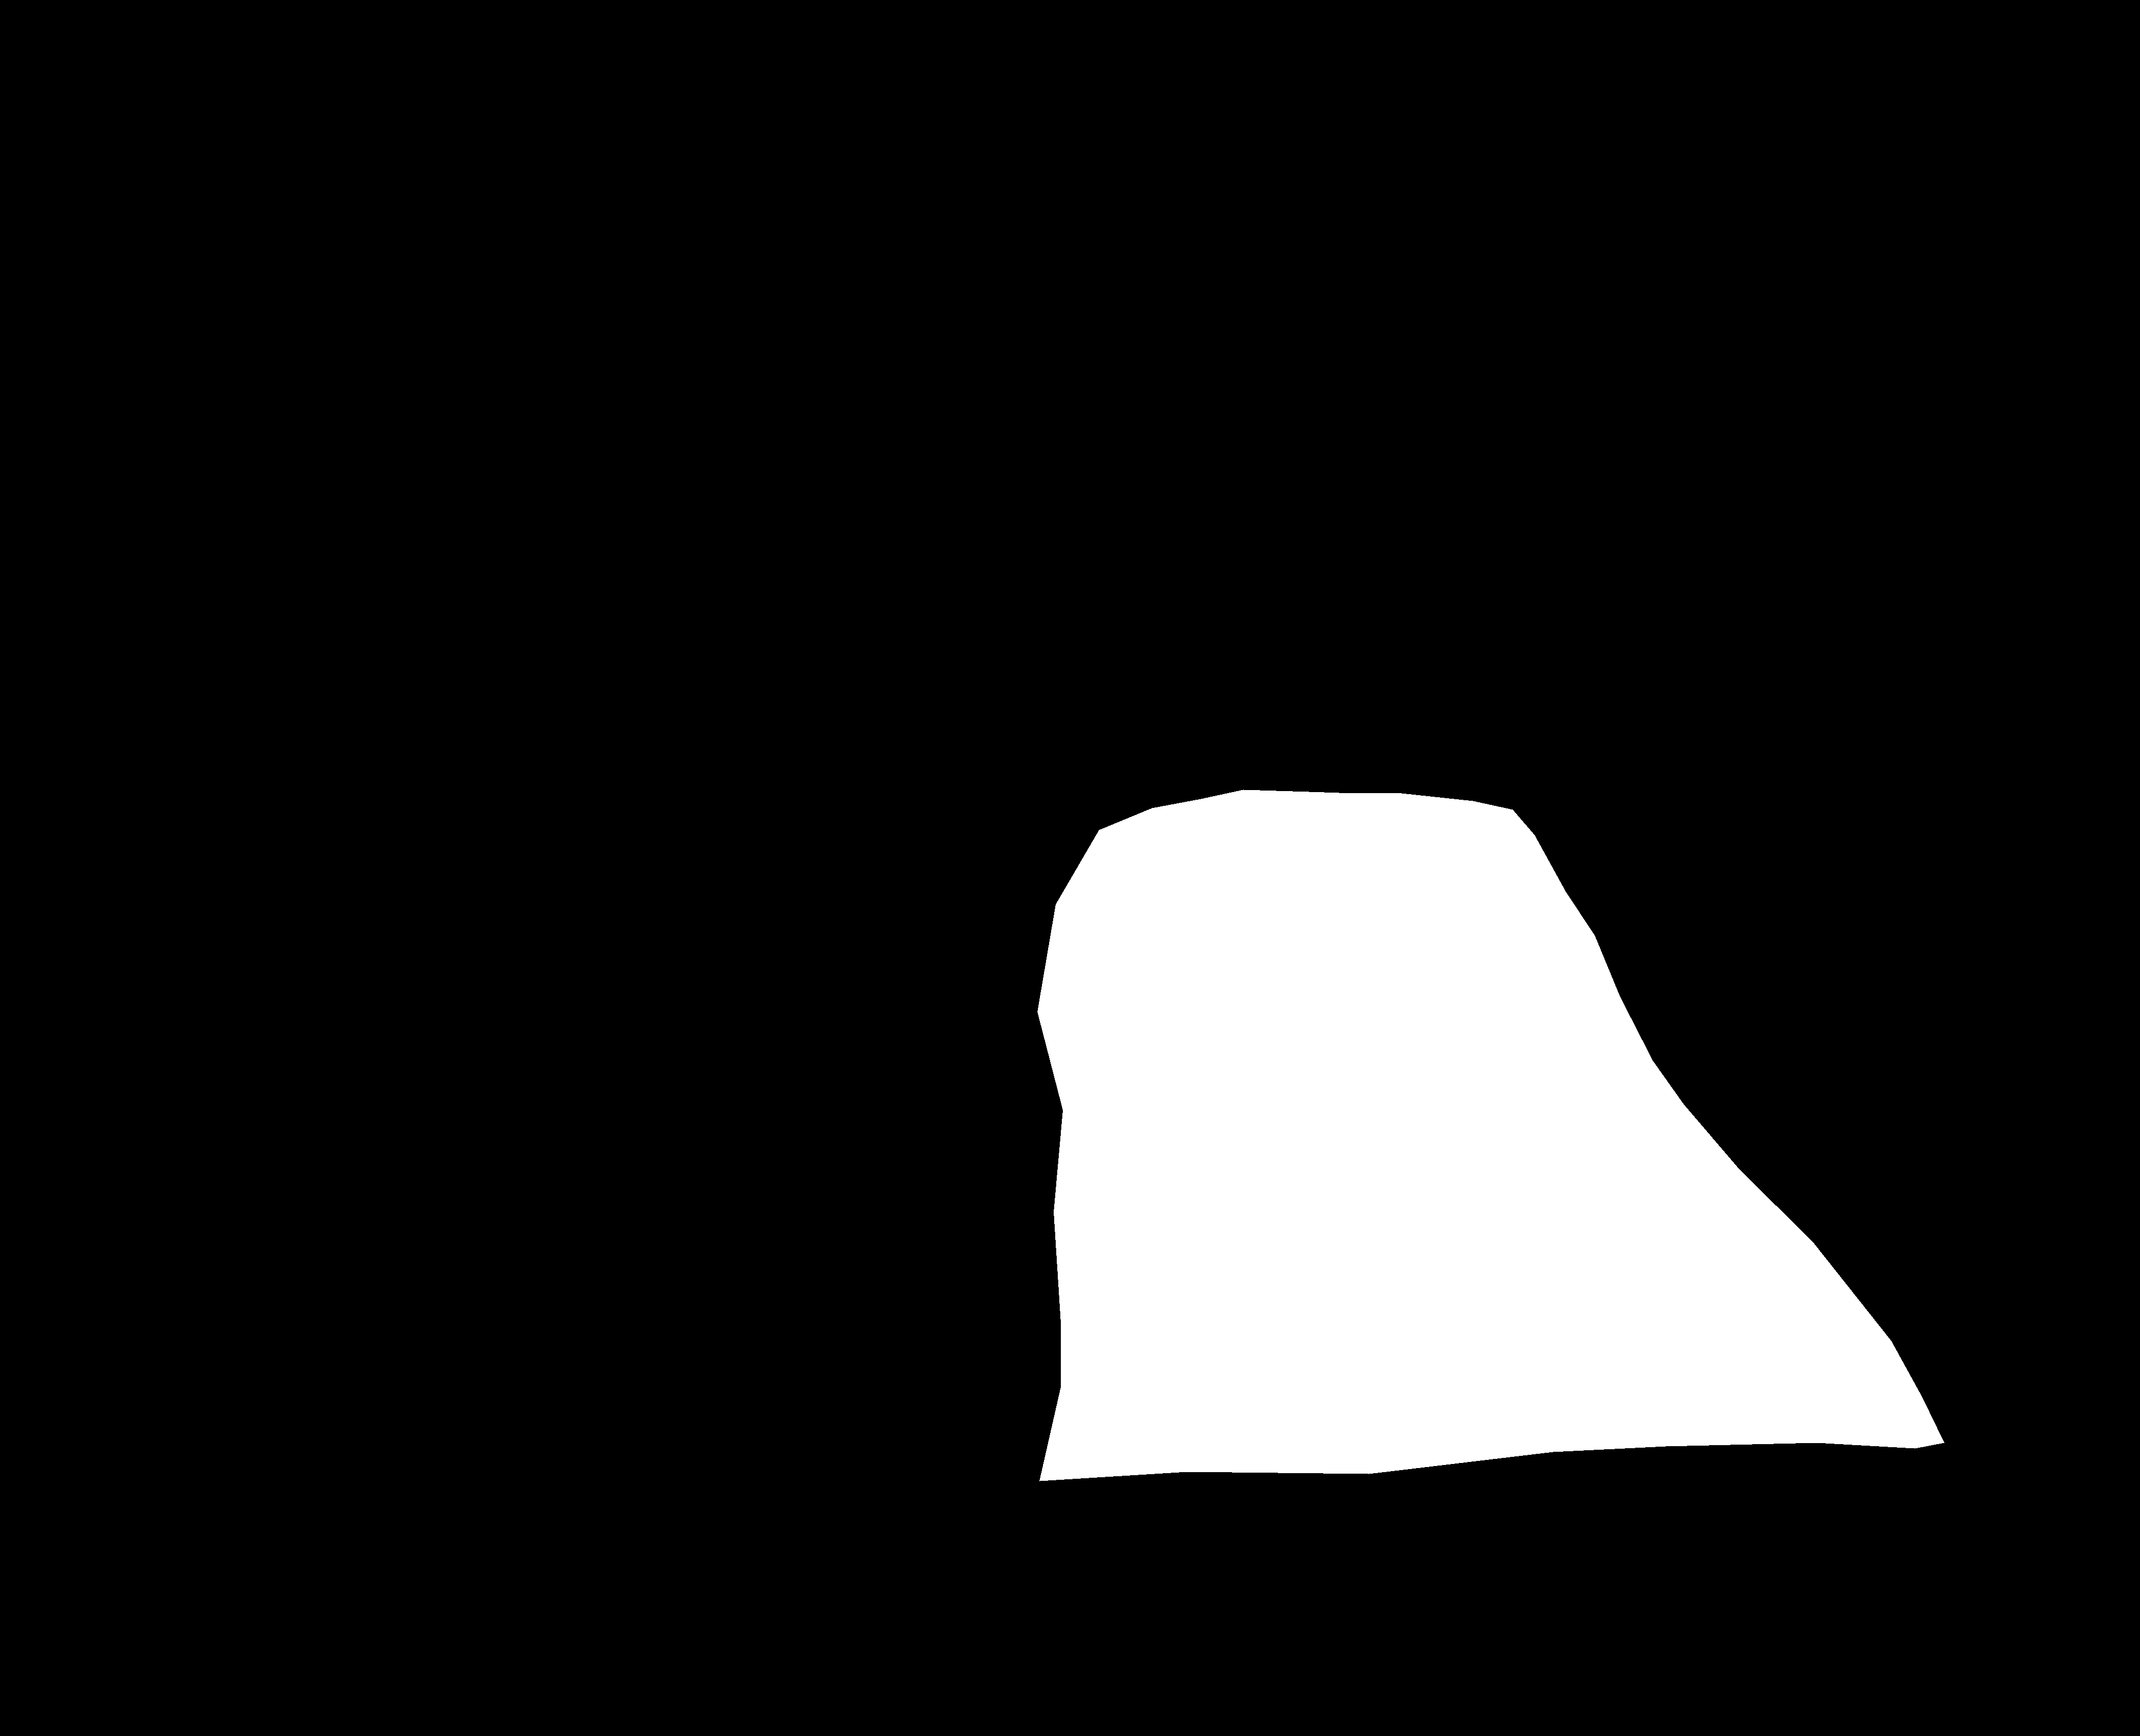heart: (1038, 790, 1943, 1481)
left_lung: (416, 432, 1182, 1566)
right_lung: (1400, 448, 1991, 1465)
